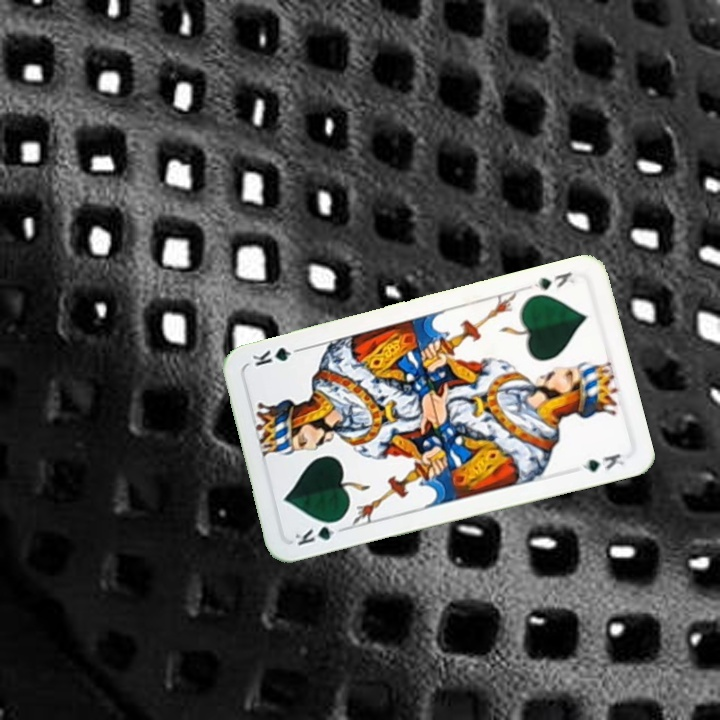GK: (290, 516, 345, 549), (530, 268, 577, 293)
